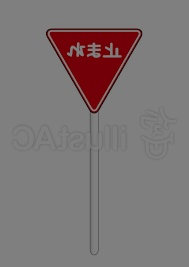Regulatory_sign_triangle: (44, 22, 150, 114)
